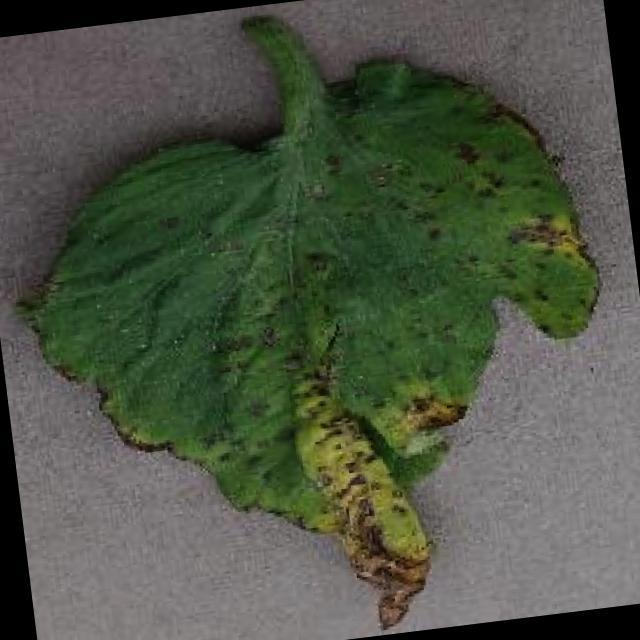Tomato bacterial spot leaf: (0, 27, 640, 640)
